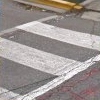crosswalk: (0, 20, 99, 100)
